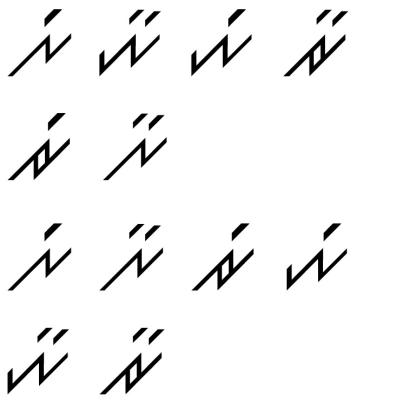lan: (95, 218, 166, 294), (101, 110, 172, 183)
lang: (5, 218, 77, 294), (8, 7, 76, 82)
ran: (281, 3, 349, 83), (97, 322, 166, 400)
rang: (188, 217, 258, 294), (8, 109, 75, 186)
yan: (1, 326, 75, 396), (90, 7, 164, 76)
yang: (277, 211, 355, 290), (184, 5, 254, 80)
